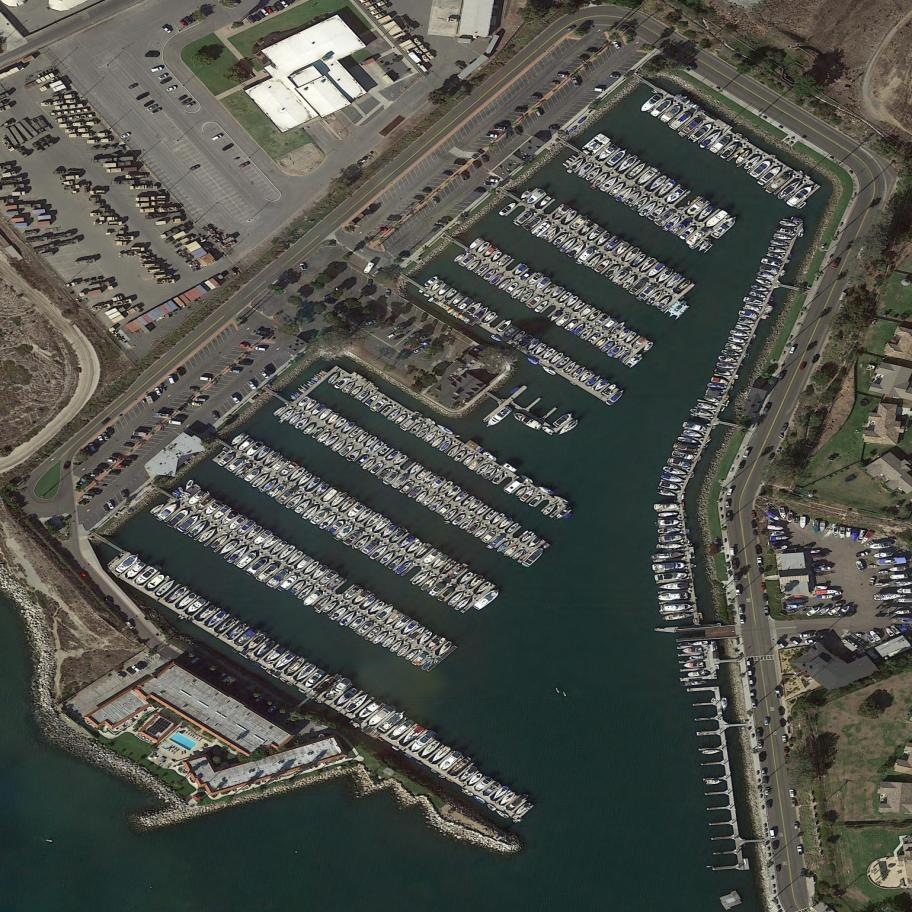ship: (471, 586, 505, 615), (579, 130, 610, 161), (377, 706, 409, 735), (662, 295, 692, 325), (785, 182, 816, 210), (764, 169, 794, 196), (711, 214, 741, 241), (484, 404, 514, 431), (324, 675, 353, 701), (511, 410, 545, 432), (409, 728, 437, 754), (776, 177, 805, 202), (388, 716, 416, 741), (367, 703, 395, 728), (343, 690, 371, 715), (687, 121, 715, 145), (521, 545, 547, 570), (757, 163, 783, 188), (437, 749, 463, 774), (115, 551, 141, 575), (166, 506, 192, 530), (255, 560, 281, 584), (265, 566, 291, 590), (400, 723, 426, 747), (697, 128, 724, 151), (357, 697, 384, 720), (704, 207, 729, 231), (678, 115, 704, 138), (334, 685, 360, 708), (639, 92, 664, 115), (246, 554, 271, 577), (293, 661, 318, 684), (654, 178, 678, 201), (303, 667, 327, 690), (134, 565, 159, 587), (556, 416, 581, 438), (176, 512, 201, 534), (216, 537, 241, 559), (235, 549, 260, 571), (271, 650, 297, 671), (660, 102, 683, 125), (709, 133, 732, 156), (284, 654, 307, 677), (693, 234, 716, 257), (264, 643, 288, 665), (635, 166, 659, 188), (650, 97, 674, 119), (669, 110, 693, 132), (157, 500, 181, 522), (227, 543, 251, 565), (205, 608, 228, 630), (750, 158, 773, 180), (597, 141, 620, 163), (615, 154, 638, 176), (686, 196, 709, 218), (418, 738, 441, 760), (606, 147, 630, 168), (276, 573, 300, 594), (155, 577, 177, 599), (125, 559, 147, 581), (308, 507, 331, 528), (176, 590, 199, 611), (166, 584, 189, 605), (446, 561, 469, 582), (664, 185, 687, 206), (605, 387, 628, 408), (254, 638, 277, 659), (448, 756, 471, 777), (315, 674, 338, 695), (215, 615, 237, 636), (342, 527, 364, 548), (626, 160, 648, 181), (187, 519, 209, 540), (198, 524, 220, 545), (301, 589, 323, 610), (430, 744, 452, 765), (185, 596, 208, 616), (552, 410, 576, 429), (246, 631, 267, 652), (671, 217, 692, 238), (571, 211, 592, 232), (235, 628, 257, 648), (317, 512, 339, 532), (335, 521, 357, 541), (654, 208, 676, 228), (513, 209, 535, 229), (647, 173, 669, 193), (337, 608, 359, 628), (473, 774, 495, 794), (301, 502, 322, 522), (268, 538, 289, 558), (284, 491, 305, 511), (599, 174, 620, 194), (566, 240, 587, 260), (532, 219, 553, 239), (719, 141, 740, 161), (209, 531, 230, 551), (458, 764, 479, 784), (226, 621, 248, 640), (312, 593, 334, 612), (277, 543, 297, 563), (268, 481, 288, 501), (622, 245, 642, 265), (575, 160, 595, 180), (576, 245, 596, 265), (695, 204, 715, 224), (645, 287, 665, 307), (625, 351, 645, 371), (318, 568, 339, 587), (383, 608, 404, 627), (236, 518, 257, 537), (371, 516, 392, 535), (369, 543, 390, 562), (678, 223, 699, 242), (647, 203, 668, 222), (638, 200, 659, 219), (329, 604, 350, 623), (337, 496, 359, 514), (376, 603, 396, 622), (285, 549, 305, 568), (228, 513, 248, 532), (244, 523, 264, 542), (363, 511, 383, 530), (329, 491, 349, 510), (276, 487, 296, 506), (251, 471, 271, 490), (243, 465, 263, 484), (389, 526, 409, 545), (420, 574, 440, 593), (437, 585, 457, 604), (430, 552, 450, 571), (422, 547, 442, 566), (686, 228, 706, 247), (663, 213, 683, 232), (615, 185, 635, 204), (607, 179, 627, 198), (523, 214, 543, 233), (526, 187, 546, 206), (552, 203, 572, 222), (743, 153, 763, 172), (628, 278, 648, 297), (637, 282, 657, 301), (296, 583, 316, 602), (287, 465, 308, 483), (351, 588, 372, 606), (146, 573, 167, 591), (219, 509, 240, 527), (253, 528, 274, 546), (646, 261, 667, 279), (655, 267, 676, 285), (609, 267, 630, 285), (552, 506, 573, 524), (211, 503, 232, 521), (505, 794, 526, 812), (410, 570, 432, 587), (408, 623, 427, 642), (466, 572, 485, 591), (486, 533, 505, 552), (262, 450, 282, 468), (245, 440, 265, 458), (270, 456, 290, 474), (279, 460, 299, 478), (302, 559, 322, 577), (342, 584, 362, 602), (392, 614, 412, 632), (321, 486, 341, 504), (226, 456, 246, 474), (453, 594, 473, 612), (638, 256, 658, 274), (664, 272, 684, 290), (558, 236, 578, 254), (498, 200, 518, 218), (203, 499, 223, 517), (195, 494, 215, 512), (187, 489, 207, 507), (355, 620, 375, 638), (363, 624, 383, 642), (260, 534, 281, 551), (630, 195, 651, 212), (681, 421, 708, 434), (310, 564, 329, 582), (401, 619, 420, 637), (435, 639, 453, 658), (294, 497, 313, 515), (347, 501, 366, 519), (303, 475, 322, 493), (361, 538, 380, 556), (446, 590, 465, 608), (439, 558, 458, 576), (591, 171, 610, 189), (586, 251, 604, 270), (587, 224, 605, 243), (584, 165, 603, 183), (491, 784, 510, 802), (498, 790, 517, 808), (197, 604, 217, 621), (217, 451, 237, 468), (404, 539, 424, 556), (622, 190, 642, 207), (603, 235, 623, 252), (655, 571, 689, 581), (873, 556, 907, 566), (662, 465, 688, 478), (328, 518, 346, 536), (380, 522, 398, 540), (387, 554, 405, 572), (613, 240, 631, 258), (630, 251, 648, 269), (734, 148, 752, 166), (458, 251, 476, 269), (382, 469, 401, 486), (355, 507, 374, 524), (673, 278, 692, 295), (594, 257, 613, 274), (466, 771, 485, 788), (233, 462, 253, 478), (651, 562, 686, 571), (689, 407, 715, 419), (229, 431, 247, 448), (345, 447, 363, 464), (417, 629, 434, 647), (397, 534, 415, 551), (261, 476, 279, 493), (353, 534, 371, 551), (457, 570, 475, 587), (552, 231, 570, 248), (562, 208, 579, 226), (578, 220, 596, 237), (604, 262, 622, 279), (621, 273, 638, 291), (527, 270, 545, 287), (594, 312, 612, 329), (656, 294, 673, 312), (510, 285, 528, 302), (503, 479, 521, 496), (348, 614, 366, 631), (483, 780, 501, 797), (873, 592, 907, 601), (394, 560, 413, 576), (427, 582, 446, 598), (473, 580, 492, 596), (513, 801, 532, 817), (367, 599, 386, 615), (667, 458, 692, 470), (255, 445, 272, 462), (468, 455, 485, 472), (414, 543, 431, 560), (379, 549, 396, 566), (569, 156, 586, 173), (519, 487, 536, 504), (535, 275, 552, 292), (430, 475, 447, 492), (381, 633, 398, 650), (453, 488, 471, 504), (519, 529, 537, 545), (295, 555, 313, 571), (327, 575, 345, 591), (360, 594, 378, 610), (466, 299, 484, 315), (546, 309, 564, 325), (657, 582, 689, 591), (661, 603, 693, 612), (290, 578, 308, 594), (661, 473, 685, 485), (372, 630, 390, 646), (673, 443, 699, 454), (436, 479, 455, 494), (435, 423, 455, 437), (663, 612, 694, 621), (481, 529, 498, 545), (399, 479, 416, 495), (391, 474, 408, 490), (294, 415, 311, 431), (386, 406, 403, 422), (340, 420, 357, 436), (296, 471, 313, 487), (596, 231, 612, 248), (497, 317, 514, 333), (610, 320, 627, 336), (519, 289, 536, 305), (526, 294, 543, 310), (534, 298, 551, 314), (555, 312, 572, 328), (651, 552, 685, 560), (388, 638, 405, 654), (859, 530, 875, 547), (237, 437, 255, 452), (279, 407, 297, 422), (585, 373, 603, 388), (658, 592, 688, 601), (764, 509, 782, 524), (672, 450, 696, 461), (414, 489, 430, 505), (495, 539, 511, 555), (503, 543, 519, 559), (341, 379, 357, 395), (372, 397, 388, 413), (409, 420, 425, 436), (578, 368, 594, 384), (466, 257, 482, 273), (640, 340, 656, 356), (412, 651, 428, 667), (421, 493, 438, 508), (490, 511, 507, 526), (316, 430, 333, 445), (376, 466, 393, 481), (452, 448, 469, 463), (475, 462, 492, 477), (363, 434, 380, 449), (310, 402, 327, 417), (314, 482, 331, 497), (474, 262, 491, 277), (497, 253, 514, 268), (607, 344, 624, 359), (503, 324, 520, 339), (322, 600, 339, 615), (324, 434, 342, 448), (428, 498, 444, 513), (443, 507, 459, 522), (459, 516, 475, 531), (473, 525, 489, 540), (331, 438, 347, 453), (364, 392, 380, 407), (423, 429, 439, 444), (446, 443, 462, 458), (526, 535, 542, 550), (427, 635, 443, 650), (482, 466, 498, 481), (519, 333, 535, 348), (475, 305, 491, 320), (542, 502, 558, 517), (601, 382, 617, 397), (593, 378, 609, 393), (482, 267, 498, 282), (550, 285, 566, 300), (579, 304, 595, 319), (602, 317, 618, 332), (631, 335, 647, 350), (513, 262, 529, 277), (488, 272, 504, 287), (497, 277, 513, 292), (504, 280, 520, 295), (617, 348, 633, 363), (396, 643, 412, 658), (420, 657, 436, 672), (658, 481, 682, 491), (392, 453, 409, 467), (491, 470, 505, 487), (600, 340, 617, 354), (149, 502, 166, 516), (545, 225, 558, 243), (655, 489, 678, 499), (446, 484, 461, 499), (452, 512, 467, 527), (461, 494, 476, 509), (506, 520, 521, 535), (407, 485, 422, 500), (302, 421, 317, 436), (370, 461, 385, 476), (439, 439, 454, 454), (332, 416, 347, 431), (318, 407, 333, 422), (303, 398, 318, 413), (533, 342, 548, 357), (526, 337, 541, 352), (437, 283, 452, 298), (529, 493, 544, 508), (565, 294, 580, 309), (476, 240, 491, 255), (467, 498, 483, 512), (466, 521, 482, 535), (498, 516, 514, 530), (287, 412, 303, 426), (339, 444, 355, 458), (361, 457, 377, 471), (334, 376, 350, 390), (356, 429, 370, 445), (348, 425, 364, 439), (549, 351, 565, 365), (482, 310, 498, 324), (458, 297, 474, 311), (430, 279, 446, 293), (424, 274, 440, 288), (541, 347, 557, 361), (555, 355, 571, 369), (571, 365, 587, 379), (468, 237, 484, 251), (836, 604, 852, 618), (482, 450, 499, 463), (541, 282, 558, 295), (853, 558, 866, 575), (718, 354, 738, 365), (540, 365, 558, 377), (537, 484, 555, 496), (868, 542, 892, 551), (511, 548, 526, 562), (416, 426, 431, 440), (431, 435, 446, 449), (462, 453, 477, 467), (327, 371, 341, 386), (408, 462, 423, 476), (370, 440, 385, 454), (325, 412, 340, 426), (296, 395, 311, 409), (512, 329, 527, 343), (558, 290, 573, 304), (587, 308, 602, 322), (624, 330, 638, 345), (564, 318, 579, 332), (572, 322, 586, 337), (579, 327, 594, 341), (697, 401, 718, 411), (519, 473, 535, 486), (806, 605, 822, 618), (553, 494, 570, 506), (658, 535, 683, 543), (683, 429, 703, 439), (760, 258, 782, 267), (475, 504, 489, 518), (273, 404, 287, 418), (564, 360, 578, 374), (868, 629, 882, 643), (437, 503, 452, 516), (356, 389, 371, 402), (424, 471, 439, 484), (514, 485, 529, 498), (616, 328, 631, 341), (863, 632, 878, 645), (405, 648, 420, 661), (385, 449, 401, 461), (743, 304, 762, 314), (702, 394, 721, 404), (681, 680, 708, 687), (729, 329, 750, 338), (356, 454, 370, 467), (380, 404, 394, 417), (350, 385, 364, 398), (416, 468, 430, 481), (539, 195, 552, 209), (452, 293, 466, 306), (452, 251, 466, 264), (594, 336, 608, 349), (443, 288, 458, 300), (502, 462, 517, 474), (739, 310, 759, 319), (744, 297, 764, 306), (716, 362, 735, 371), (748, 291, 767, 300), (757, 271, 776, 280), (484, 509, 497, 522), (311, 427, 324, 440), (394, 413, 408, 425), (541, 424, 555, 436), (572, 300, 586, 312), (658, 527, 682, 534), (828, 605, 842, 617), (677, 437, 698, 445), (472, 795, 487, 806), (495, 809, 510, 820), (766, 252, 784, 261), (657, 519, 680, 526), (773, 233, 793, 241), (519, 189, 532, 201), (491, 250, 503, 263), (588, 332, 601, 344), (184, 478, 195, 492), (817, 605, 831, 616), (687, 670, 706, 678), (779, 220, 798, 228), (776, 227, 795, 235), (654, 504, 679, 510), (484, 246, 496, 258), (816, 589, 840, 595), (889, 624, 901, 636), (738, 317, 756, 325), (728, 336, 746, 344), (725, 343, 743, 351), (722, 349, 740, 357), (714, 369, 732, 377), (711, 377, 729, 385), (707, 382, 725, 390), (754, 278, 772, 286), (378, 445, 391, 456), (526, 356, 539, 367), (489, 334, 503, 344), (778, 506, 788, 520), (735, 324, 752, 332), (888, 565, 907, 572), (873, 552, 892, 559), (770, 240, 789, 247), (768, 247, 787, 254), (683, 662, 705, 668), (884, 626, 895, 638), (462, 788, 475, 798), (658, 512, 679, 518), (857, 529, 866, 543), (751, 285, 769, 292), (796, 201, 808, 211), (814, 566, 831, 573), (702, 749, 721, 755), (890, 574, 909, 580), (812, 520, 820, 534), (425, 417, 437, 426), (692, 640, 709, 646), (767, 525, 784, 531), (682, 648, 702, 653), (487, 802, 497, 812), (770, 536, 790, 541), (509, 386, 520, 395), (721, 697, 728, 711), (852, 528, 859, 542), (773, 545, 789, 551), (660, 544, 683, 548), (839, 527, 846, 540), (791, 216, 804, 223), (170, 490, 180, 499), (705, 780, 722, 785), (770, 531, 787, 536), (832, 523, 839, 535), (689, 655, 705, 660), (817, 595, 833, 600), (895, 610, 910, 615), (801, 517, 807, 529), (414, 410, 424, 417), (798, 228, 805, 238), (846, 528, 852, 539), (820, 521, 826, 532), (679, 642, 692, 647), (174, 489, 182, 497), (177, 485, 185, 493), (432, 657, 439, 666), (787, 513, 793, 523), (875, 583, 890, 587), (179, 494, 187, 501), (815, 586, 828, 590), (182, 493, 190, 499), (184, 491, 191, 497), (714, 664, 720, 670)
small-vehicle: (135, 91, 150, 102), (420, 336, 433, 348), (830, 257, 841, 271), (452, 60, 466, 71), (220, 674, 232, 686), (188, 656, 200, 668), (412, 345, 425, 356), (428, 319, 439, 332), (385, 331, 399, 341), (413, 334, 427, 344), (183, 100, 197, 110), (238, 160, 252, 170), (221, 142, 235, 152), (210, 133, 224, 143), (777, 369, 788, 381), (798, 359, 809, 371), (283, 714, 295, 725), (392, 333, 405, 343), (159, 76, 172, 86), (150, 106, 163, 116), (855, 550, 869, 559), (267, 704, 278, 715), (253, 694, 264, 705), (161, 24, 172, 35), (741, 448, 751, 460), (811, 353, 821, 365), (533, 107, 543, 119), (565, 24, 577, 34), (167, 374, 177, 386), (231, 394, 241, 406), (247, 379, 257, 391), (92, 438, 102, 450), (143, 99, 155, 109), (189, 163, 201, 173), (394, 322, 407, 331), (146, 103, 159, 112), (435, 219, 449, 227), (495, 121, 511, 128), (149, 66, 163, 74), (762, 403, 772, 414), (131, 664, 142, 674), (125, 620, 135, 631), (612, 40, 622, 51), (274, 1, 284, 12), (260, 369, 270, 380), (443, 327, 453, 338), (136, 660, 147, 670), (125, 666, 136, 676), (264, 365, 274, 376), (210, 411, 220, 422), (867, 576, 876, 588), (796, 845, 805, 857), (88, 442, 97, 454), (571, 77, 580, 89), (153, 386, 162, 398), (365, 318, 377, 327), (165, 85, 177, 94), (127, 82, 139, 91), (180, 98, 192, 107), (119, 131, 131, 140), (116, 463, 131, 470), (253, 12, 263, 22), (101, 416, 111, 426), (370, 269, 380, 279), (183, 16, 193, 26), (738, 459, 747, 470), (780, 422, 789, 433), (788, 345, 797, 356), (106, 500, 115, 511), (120, 490, 129, 501), (101, 431, 110, 442), (767, 451, 776, 462), (420, 313, 429, 324), (431, 196, 440, 207), (460, 171, 469, 182), (472, 160, 481, 171), (157, 73, 168, 82), (177, 94, 188, 103), (724, 511, 732, 523), (756, 738, 764, 750), (737, 604, 745, 616), (109, 470, 121, 478), (167, 420, 183, 426), (87, 472, 100, 479), (548, 124, 561, 131), (578, 54, 591, 61), (725, 487, 734, 497), (97, 435, 106, 445), (492, 125, 507, 131), (270, 4, 279, 14), (265, 5, 274, 15), (261, 8, 270, 18), (198, 376, 213, 382), (173, 416, 188, 422), (238, 360, 253, 366), (764, 799, 773, 809), (798, 633, 813, 639), (179, 19, 189, 28), (756, 557, 764, 568), (769, 828, 777, 839), (788, 789, 796, 800), (750, 699, 758, 710), (754, 544, 762, 555), (758, 752, 766, 763), (762, 592, 770, 603), (105, 457, 117, 464), (556, 73, 570, 79), (388, 216, 402, 222), (440, 171, 454, 177), (585, 48, 599, 54), (257, 10, 266, 19), (248, 15, 257, 24), (780, 735, 788, 745), (789, 799, 797, 809), (63, 461, 71, 471), (299, 262, 307, 272), (176, 367, 184, 377), (106, 427, 114, 437), (746, 668, 754, 678), (771, 840, 779, 850), (486, 133, 499, 139), (377, 227, 390, 233), (238, 343, 251, 349), (97, 464, 110, 470), (412, 195, 425, 201), (420, 188, 433, 194), (473, 188, 486, 194), (763, 606, 770, 617), (755, 728, 762, 739), (775, 689, 782, 700), (87, 491, 102, 496), (127, 435, 142, 440), (432, 224, 444, 230), (82, 494, 94, 500), (111, 454, 123, 460), (454, 161, 466, 167), (103, 504, 110, 514), (731, 560, 738, 570), (763, 788, 770, 798), (739, 615, 746, 625), (530, 95, 544, 100), (366, 278, 373, 288), (751, 520, 758, 530), (145, 53, 159, 58), (481, 155, 488, 165), (548, 80, 562, 85), (735, 586, 741, 597), (484, 181, 495, 187), (594, 87, 605, 93), (192, 401, 203, 407), (93, 469, 104, 475), (441, 217, 454, 222), (194, 397, 207, 402), (254, 347, 267, 352), (124, 456, 137, 461), (187, 387, 200, 392), (116, 672, 124, 680), (760, 768, 767, 777), (763, 717, 770, 726), (384, 289, 391, 298), (779, 707, 786, 716), (748, 678, 755, 687), (733, 573, 740, 582), (760, 582, 767, 591), (751, 530, 760, 537), (799, 868, 806, 877), (487, 178, 499, 183), (229, 369, 241, 374), (124, 443, 136, 448), (745, 659, 751, 669), (793, 822, 800, 830), (750, 511, 757, 519), (762, 777, 769, 785), (610, 74, 621, 79), (804, 639, 815, 644), (725, 500, 731, 509), (729, 548, 735, 557), (515, 108, 528, 112), (780, 719, 786, 727), (750, 691, 756, 699), (784, 748, 790, 755), (776, 864, 781, 872), (759, 568, 764, 575)
